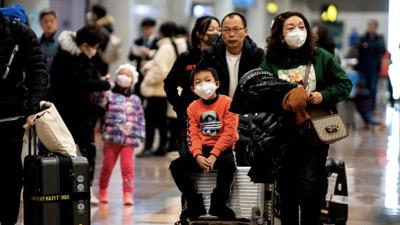with_mask: (283, 19, 308, 50), (195, 74, 217, 100), (203, 24, 221, 47), (115, 70, 131, 89), (82, 43, 98, 59)
without_mask: (223, 22, 244, 48), (41, 15, 57, 34)
